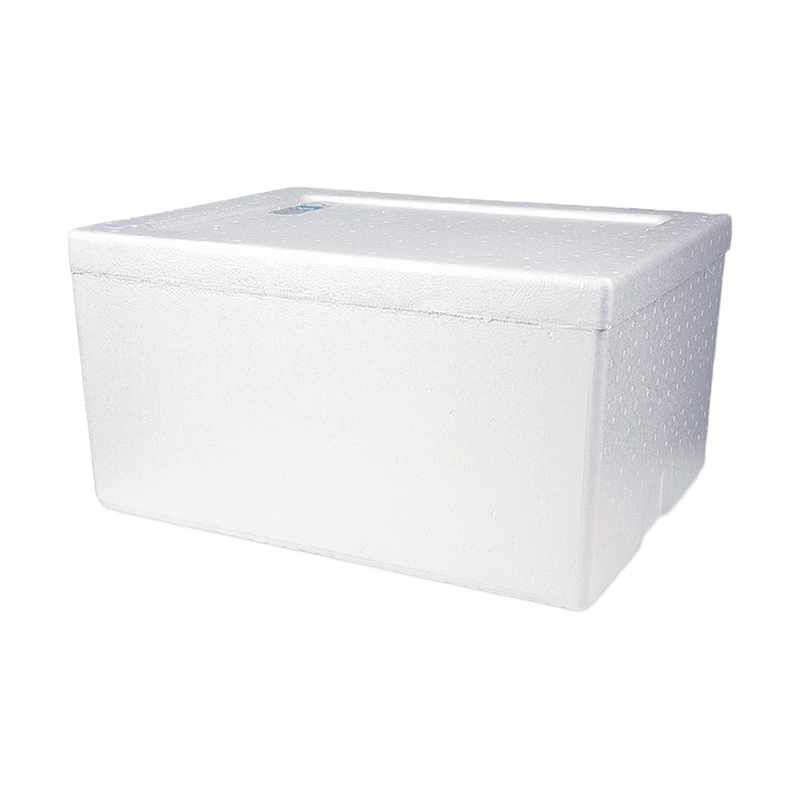Foam Box: (60, 177, 742, 615)
